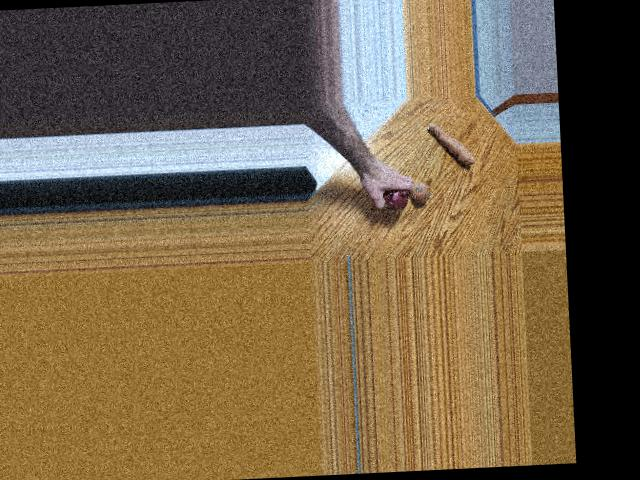onion: (407, 180, 432, 203)
